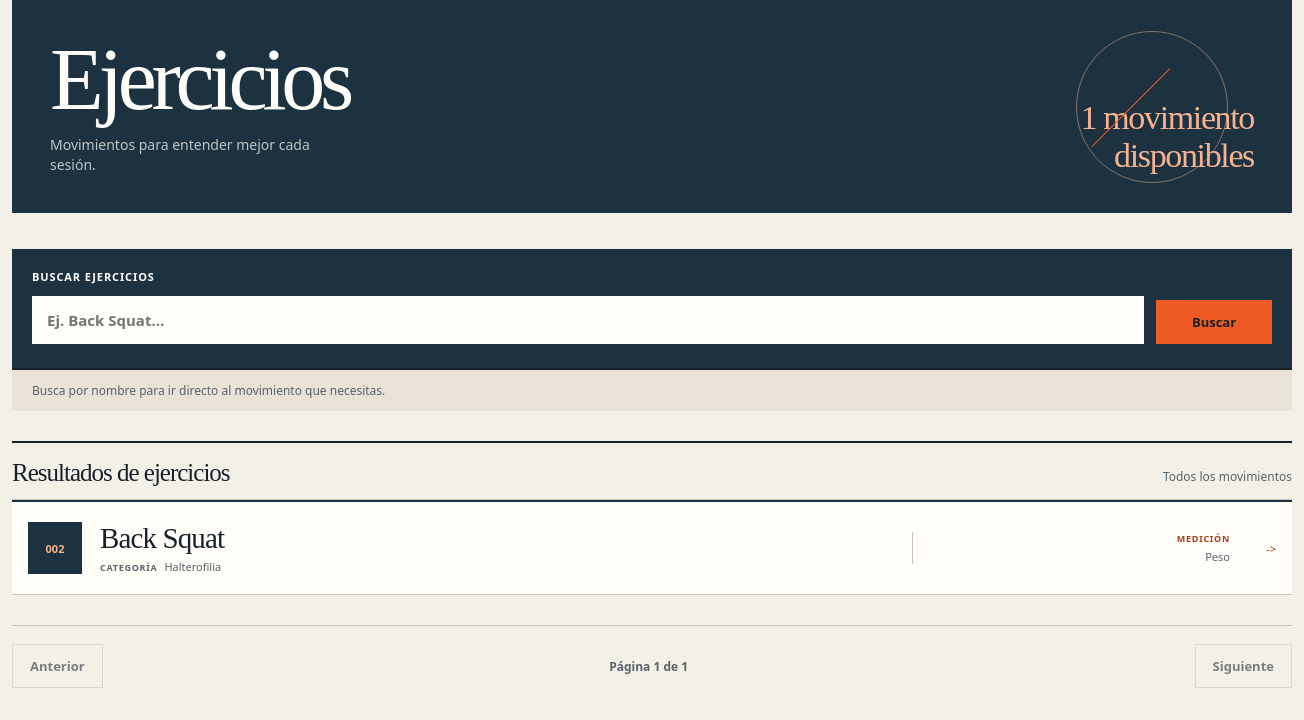
Test: ExercisesPage › sends the search query and page navigation to the API
The width and height of the screenshot is (1304, 720).
expect the link "002 Back Squat Categoría Halterofilia Medición Peso ->" is shown: met, box [12,502,1292,595]
Step 1. Type "snatch" into the search field labelled "Buscar ejercicios" → (588,320), box [32,296,1144,344]
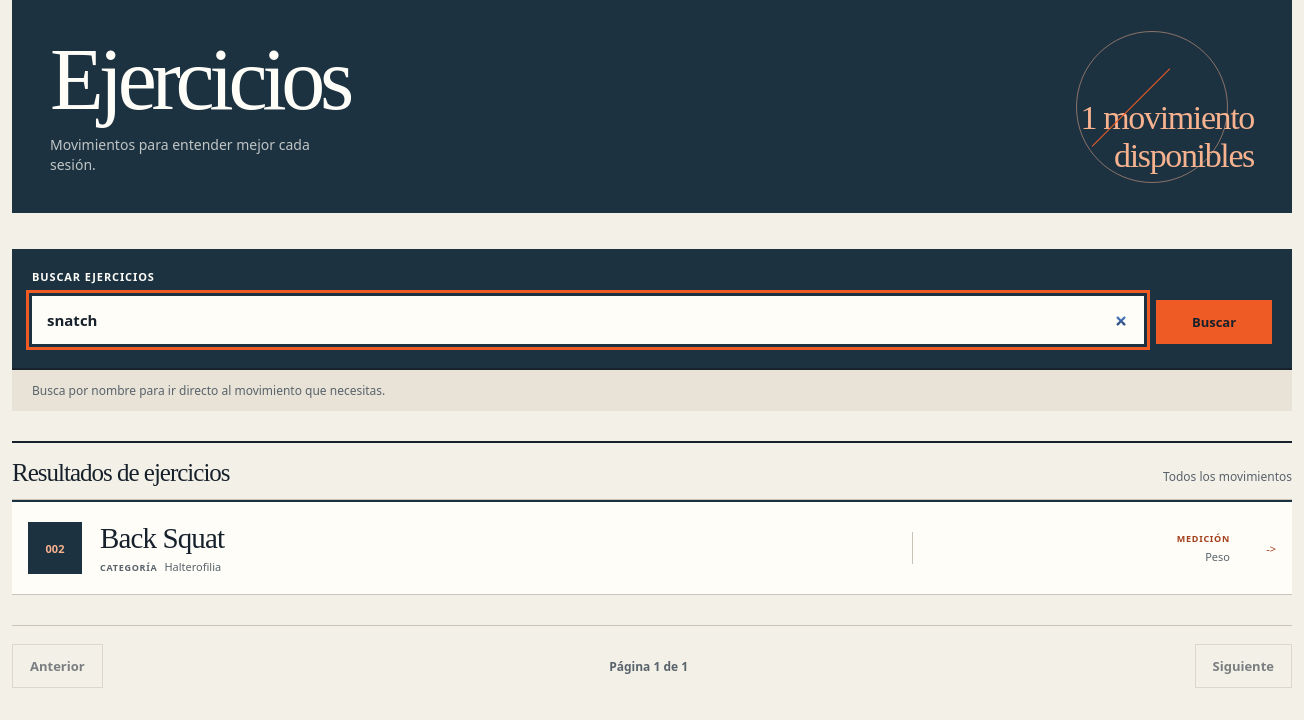
Step 2. Click the button "Buscar" → (1214,322), box [1156,300,1272,344]
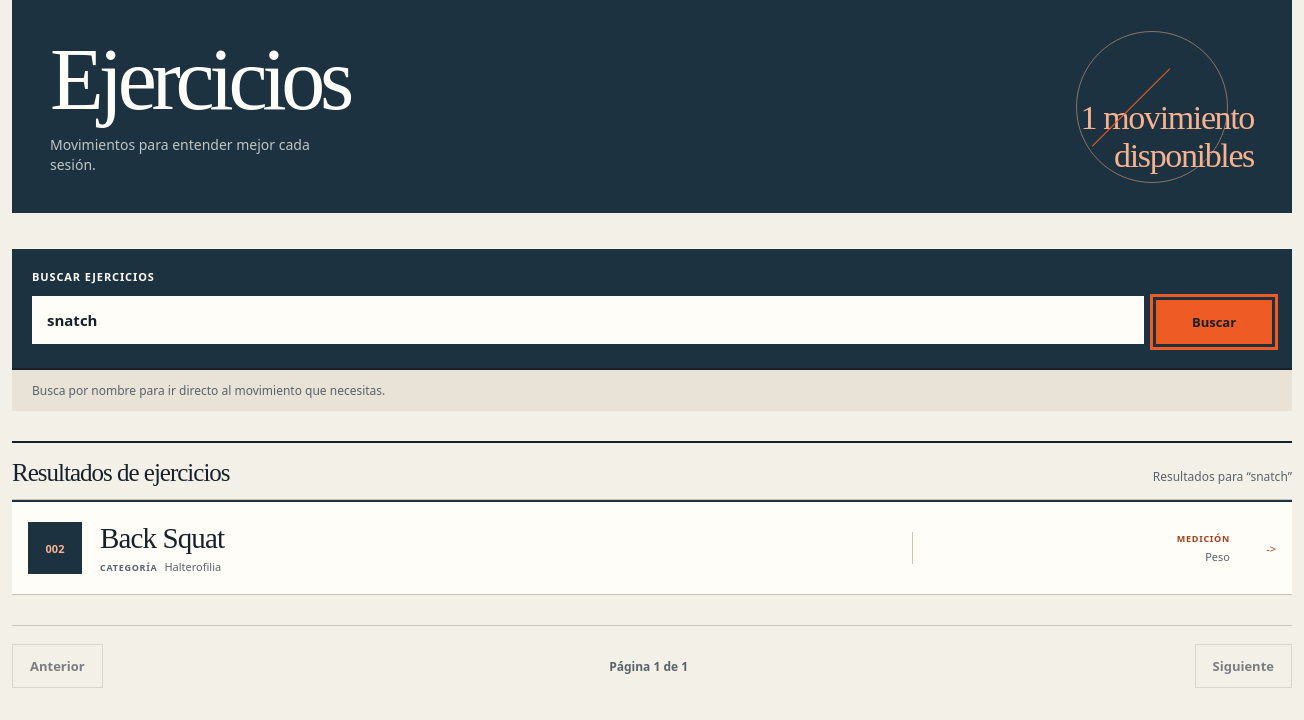
expect the text "Resultados para “snatch”" is shown: met, box [1153,468,1292,485]
